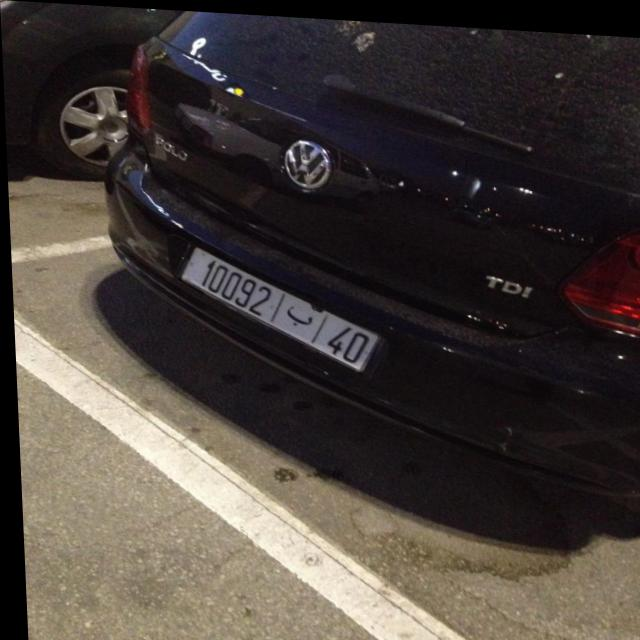License-Plate: (179, 245, 376, 367)
